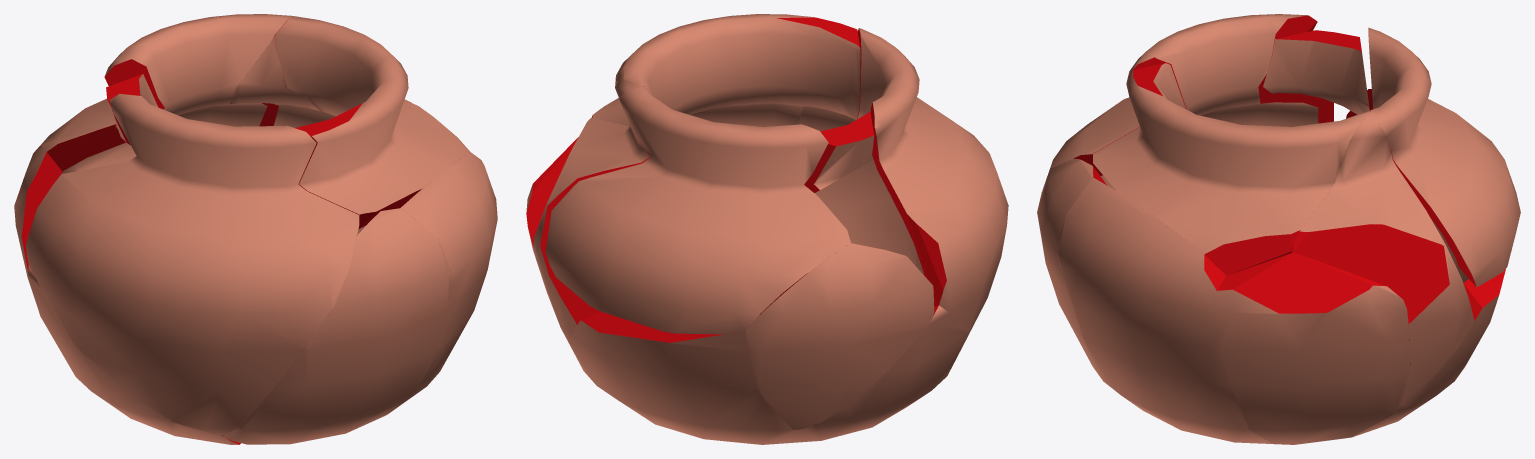
The model's file is ClayPot_01_destroyed 1.fbx.
The picture shows the model from 3 angles, left to right: view 1: azimuth 30°, elevation 25°; view 2: azimuth 150°, elevation 25°; view 3: azimuth 270°, elevation 25°; orthographic projection.
Parts seen in each view (by area): view 1: ClayPot_01_cell.008, ClayPot_01_cell.009, ClayPot_01_cell.011, ClayPot_01_cell.005, ClayPot_01_cell.004, ClayPot_01_cell, ClayPot_01_cell.003, ClayPot_01_cell.013, ClayPot_01_cell.001; view 2: ClayPot_01_cell.005, ClayPot_01_cell.008, ClayPot_01_cell.013, ClayPot_01_cell.011, ClayPot_01_cell.002, ClayPot_01_cell, ClayPot_01_cell.003, ClayPot_01_cell.009, ClayPot_01_cell.001, ClayPot_01_cell.004, ClayPot_01_cell.015; view 3: ClayPot_01_cell.004, ClayPot_01_cell.015, ClayPot_01_cell.011, ClayPot_01_cell.003, ClayPot_01_cell.005, ClayPot_01_cell.008, ClayPot_01_cell.001, ClayPot_01_cell.009, ClayPot_01_cell.002.
Boxes of the visible parts, x1,y1,x2,y2 form: ClayPot_01_cell.008: (26, 94, 359, 435); ClayPot_01_cell.009: (222, 208, 451, 444); ClayPot_01_cell.011: (272, 19, 470, 228); ClayPot_01_cell.005: (40, 14, 297, 173); ClayPot_01_cell.004: (383, 152, 497, 416); ClayPot_01_cell: (28, 265, 240, 444); ClayPot_01_cell.003: (230, 16, 411, 127); ClayPot_01_cell.013: (14, 145, 63, 278); ClayPot_01_cell.001: (106, 74, 157, 145); ClayPot_01_cell.005: (545, 86, 850, 334); ClayPot_01_cell.008: (857, 28, 1008, 335); ClayPot_01_cell.013: (745, 243, 934, 429); ClayPot_01_cell.011: (592, 14, 860, 125); ClayPot_01_cell.002: (568, 312, 796, 444); ClayPot_01_cell: (775, 305, 969, 443); ClayPot_01_cell.003: (533, 79, 649, 343); ClayPot_01_cell.009: (798, 105, 916, 265); ClayPot_01_cell.001: (804, 112, 874, 192); ClayPot_01_cell.004: (690, 103, 805, 126); ClayPot_01_cell.015: (526, 137, 578, 302); ClayPot_01_cell.004: (1058, 177, 1271, 443); ClayPot_01_cell.015: (1214, 252, 1410, 444); ClayPot_01_cell.011: (1093, 63, 1370, 275); ClayPot_01_cell.003: (1289, 112, 1474, 404); ClayPot_01_cell.005: (1368, 27, 1520, 287); ClayPot_01_cell.008: (1044, 14, 1333, 191); ClayPot_01_cell.001: (1263, 30, 1369, 114); ClayPot_01_cell.009: (1037, 158, 1109, 385); ClayPot_01_cell.002: (1348, 219, 1505, 437).
Bounding box in the file's own units: 37.18 × 26.09 × 37.18.
